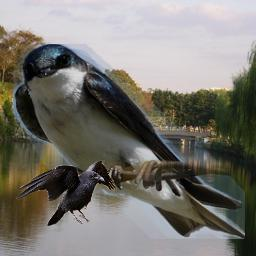Crow: (16, 160, 117, 226)
Swallow: (13, 44, 245, 239)
